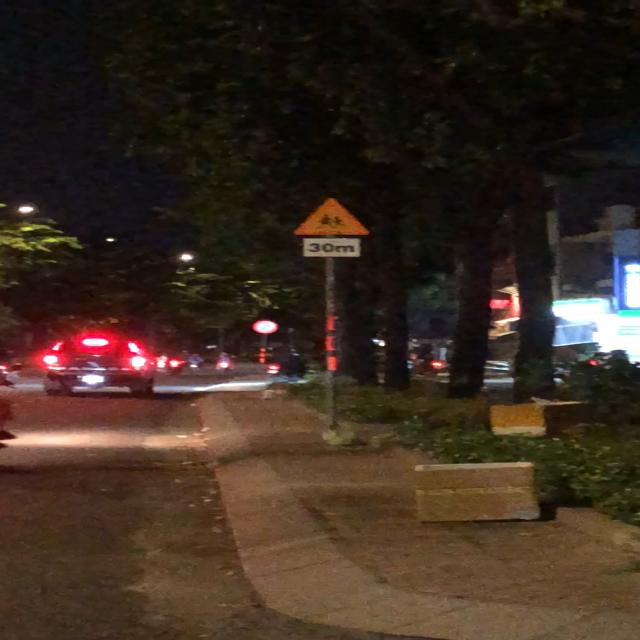Bien bao tre em: (291, 195, 371, 238)
